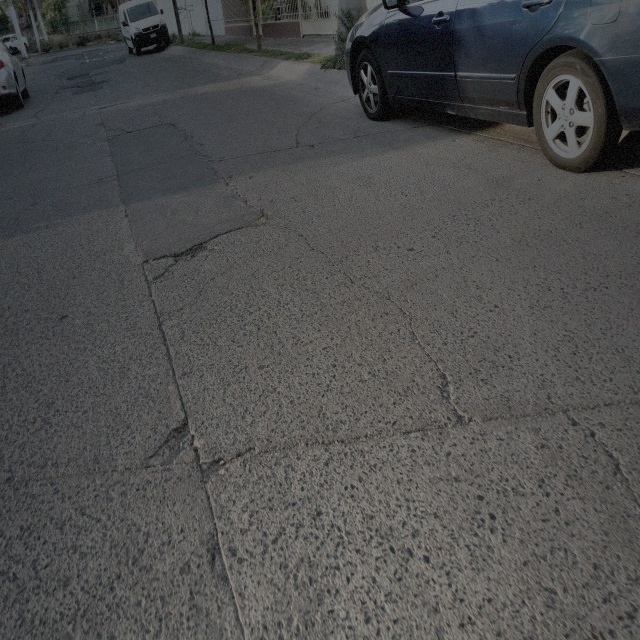pothole: (147, 421, 200, 468), (204, 538, 230, 591), (174, 235, 213, 267)
